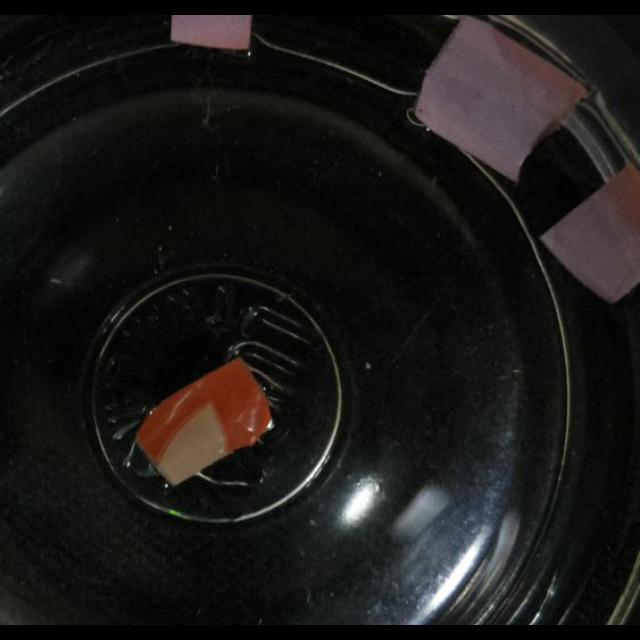Fragment: (412, 21, 584, 177), (134, 357, 272, 488), (543, 161, 640, 305), (171, 15, 255, 53)
